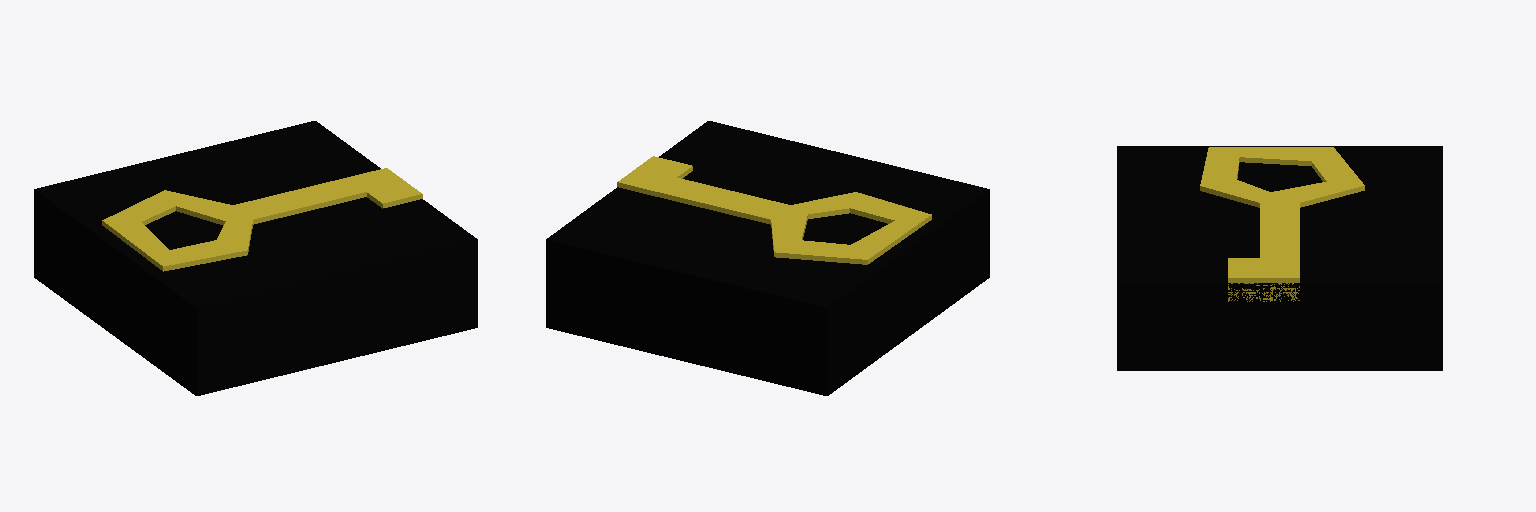
Rendered from key_hole_full.obj.
The picture shows the model from 3 angles: view 1: azimuth 30°, elevation 25°; view 2: azimuth 150°, elevation 25°; view 3: azimuth 270°, elevation 25°; orthographic projection.
Visible parts, largest first — view 1: Cube.001, Cube; view 2: Cube.001, Cube; view 3: Cube.001, Cube.
Part boxes in pixels (bbox=[...]): Cube.001: bbox=[34, 121, 477, 395]; Cube: bbox=[102, 168, 422, 271]; Cube.001: bbox=[546, 121, 989, 395]; Cube: bbox=[617, 156, 931, 264]; Cube.001: bbox=[1117, 146, 1442, 370]; Cube: bbox=[1200, 147, 1364, 301].
Size of the model in its own units: 1 by 0.317 by 1.